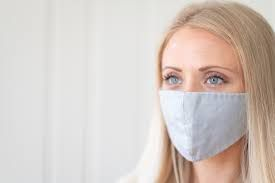with-mask: (157, 18, 264, 171)
